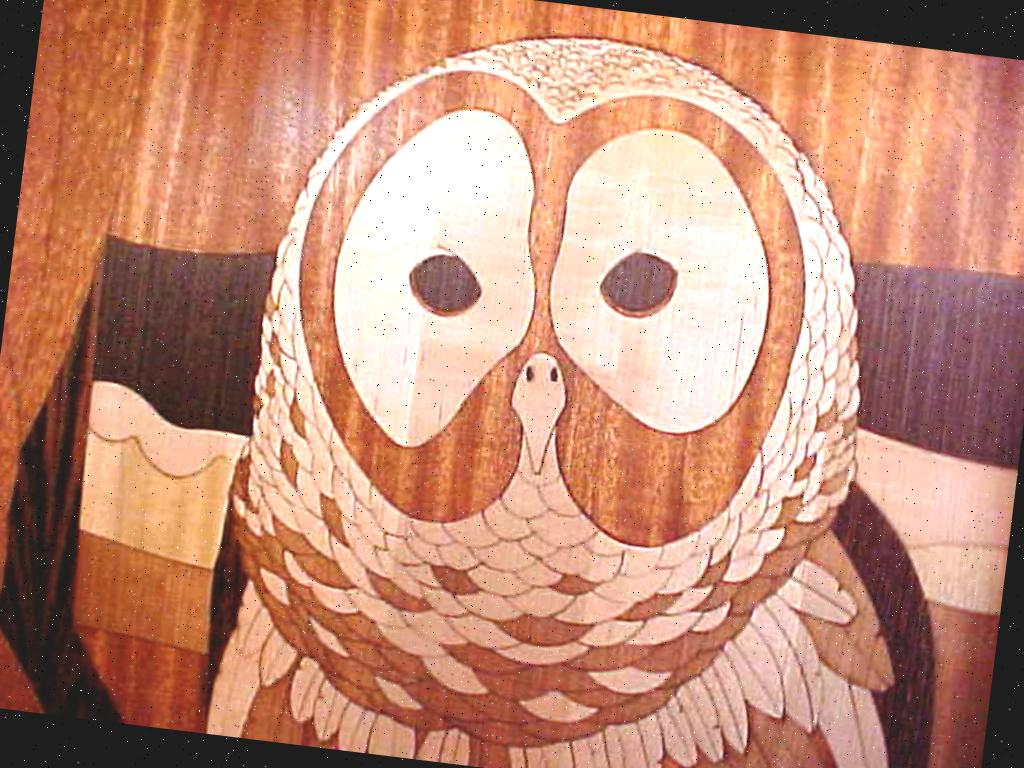Owl: (195, 0, 986, 768)
